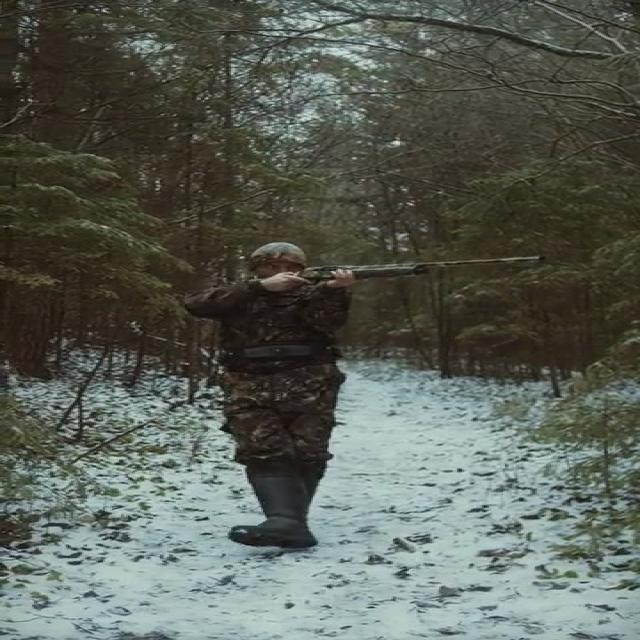Gun_Holder: (273, 254, 546, 289)
Person: (188, 235, 372, 550)
